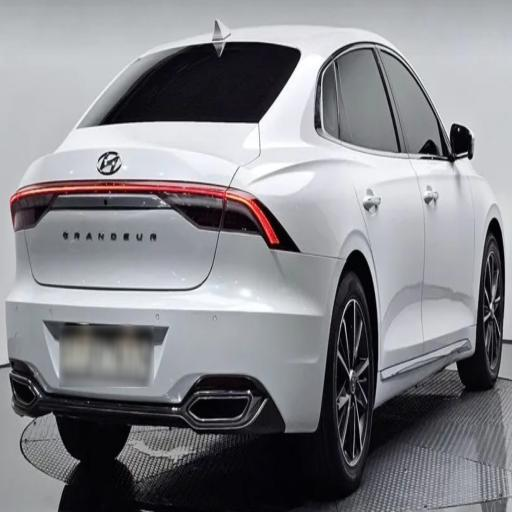normal: (30, 11, 499, 512)
